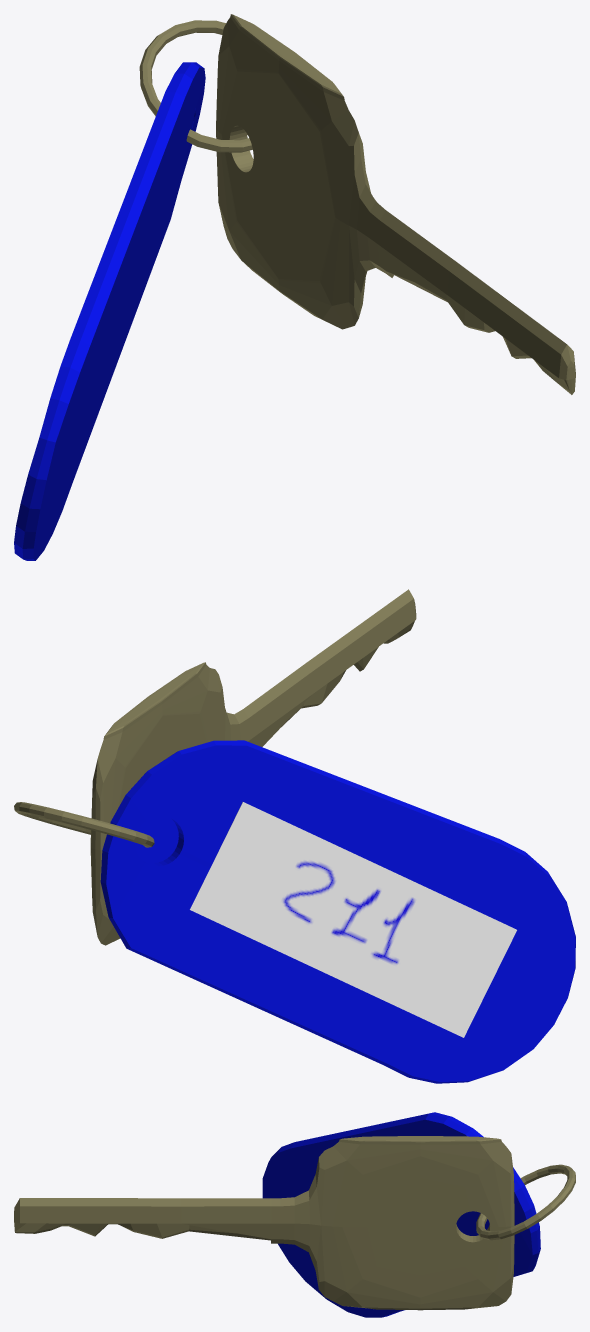
File: 211Key.fbx
3 renders of one model, top to bottom at view 1: azimuth 30°, elevation 25°; view 2: azimuth 150°, elevation 25°; view 3: azimuth 270°, elevation 25°, orthographic. The views are drawn at different scales.
Parts seen in each view (by area): view 1: Cube, Cube.001, Torus; view 2: Cube.001, Cube, Torus; view 3: Cube, Cube.001, Torus.
Boxes of the visible parts, box(x1,y1,x2,y2) form: Cube: box(216, 14, 575, 394); Cube.001: box(14, 62, 205, 560); Torus: box(139, 20, 252, 152); Cube.001: box(100, 740, 575, 1083); Cube: box(90, 589, 416, 945); Torus: box(14, 802, 154, 847); Cube: box(14, 1136, 514, 1310); Cube.001: box(262, 1112, 540, 1317); Torus: box(476, 1164, 575, 1240).
Bounding box in the file's own units: 358 × 301 × 553.
